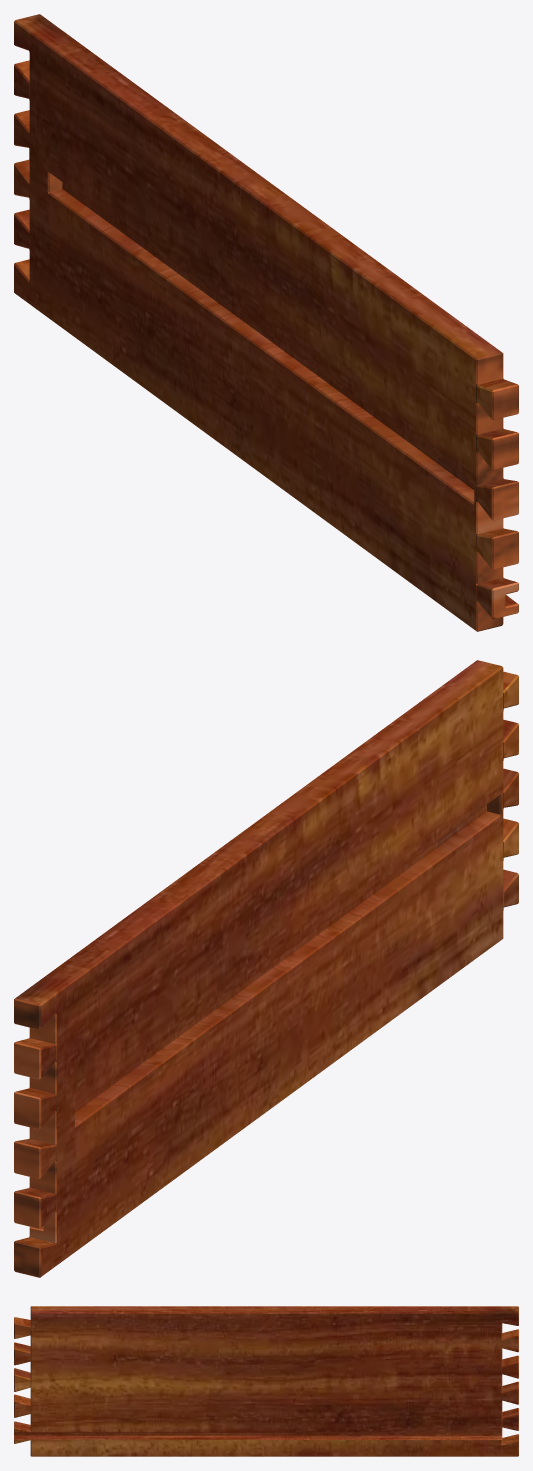
File: SJ_J_chouce_02.FBX
3 views of the same model, one above another, from view 1: azimuth 30°, elevation 25°; view 2: azimuth 150°, elevation 25°; view 3: azimuth 270°, elevation 25° (orthographic). The views are drawn at different scales.
Visible parts, largest first — view 1: SJ_J_chouce_02; view 2: SJ_J_chouce_02; view 3: SJ_J_chouce_02.
Boxes of the visible parts, <box> form: SJ_J_chouce_02: <box>14,14,518,631</box>; SJ_J_chouce_02: <box>14,660,518,1277</box>; SJ_J_chouce_02: <box>14,1306,518,1456</box>.
Size of the model in its own units: 1.2 by 11.5 by 36.5.
